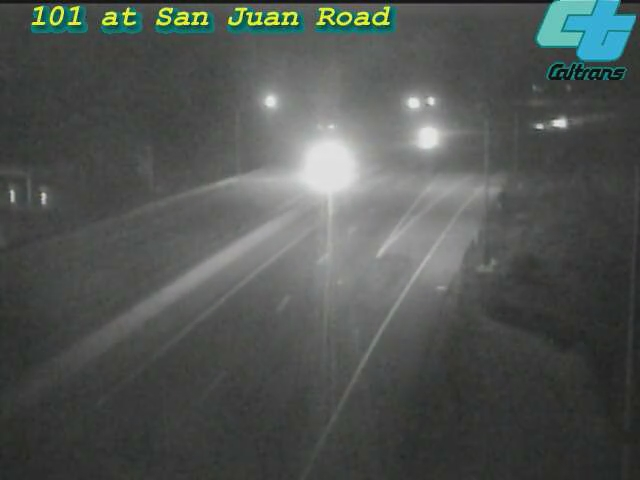vehicle: (283, 128, 363, 208), (398, 115, 448, 165), (544, 96, 594, 146), (515, 102, 565, 152)
